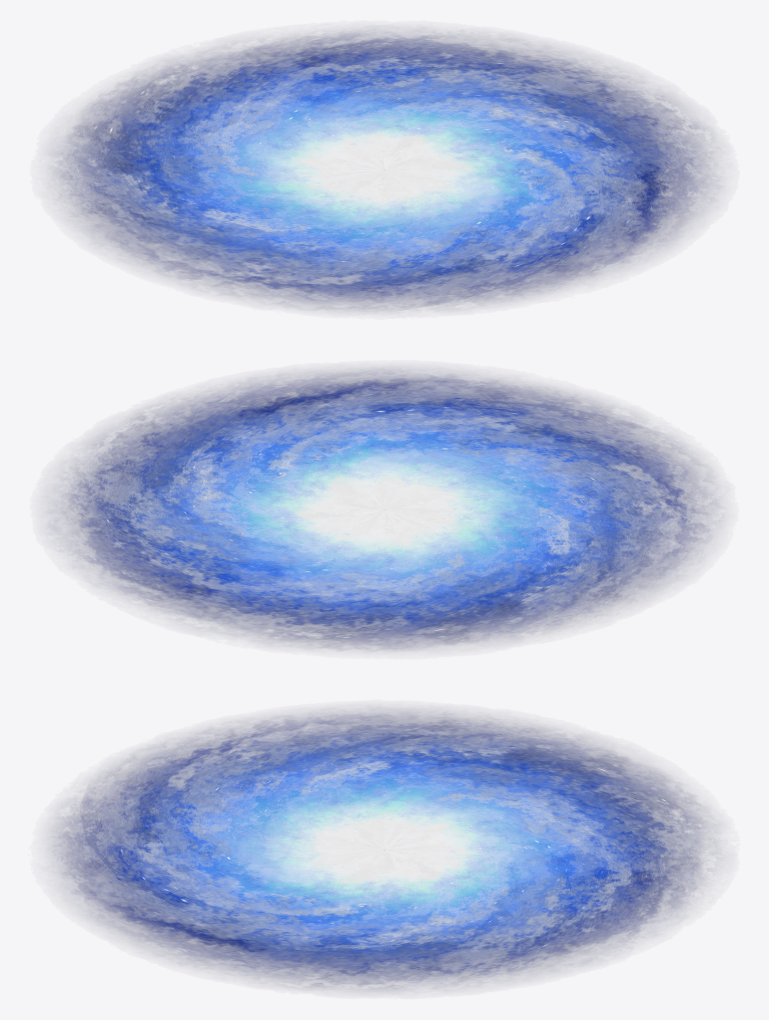
The model's file is fb_galaxy_obj1.gltf.
3 renders of one model, top to bottom at view 1: azimuth 30°, elevation 25°; view 2: azimuth 150°, elevation 25°; view 3: azimuth 270°, elevation 25°, orthographic.
Parts seen in each view (by area): view 1: Sphere; view 2: Sphere; view 3: Sphere.
Part boxes in pixels (x1,y1,x2,y2): Sphere: [52, 29, 719, 311]; Sphere: [49, 368, 720, 651]; Sphere: [52, 708, 717, 991].
Size of the model in its own units: 1.99 by 0 by 2.
1 material, 1 textured.
